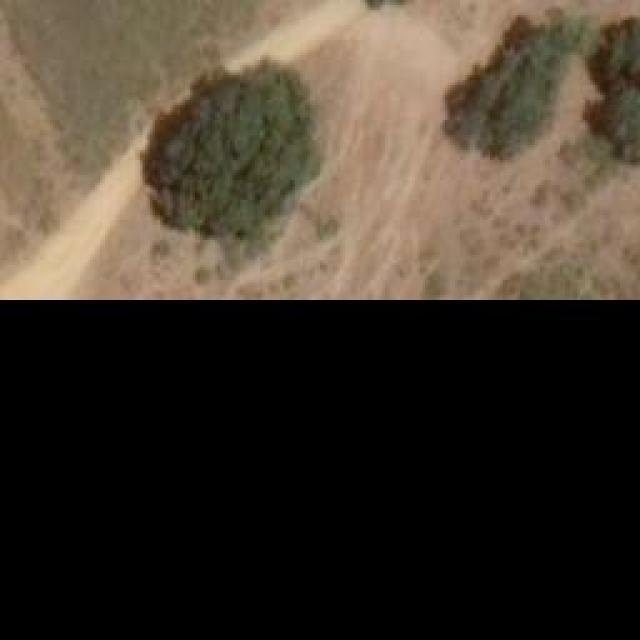Tree: (133, 73, 306, 233), (448, 30, 571, 158), (585, 20, 638, 85), (588, 92, 638, 160)
